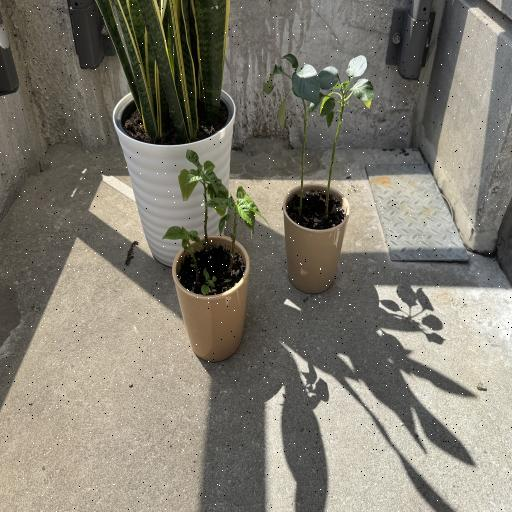Plant Pot: (111, 87, 236, 267), (174, 236, 252, 363), (281, 183, 349, 292)
